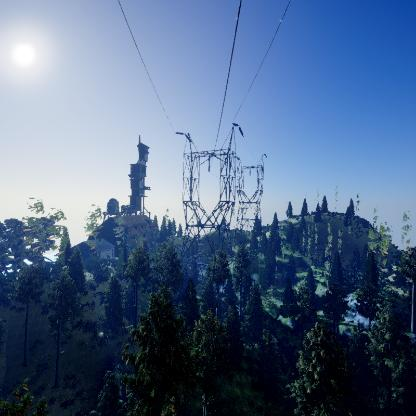tower: (172, 120, 245, 302), (232, 149, 270, 233)
